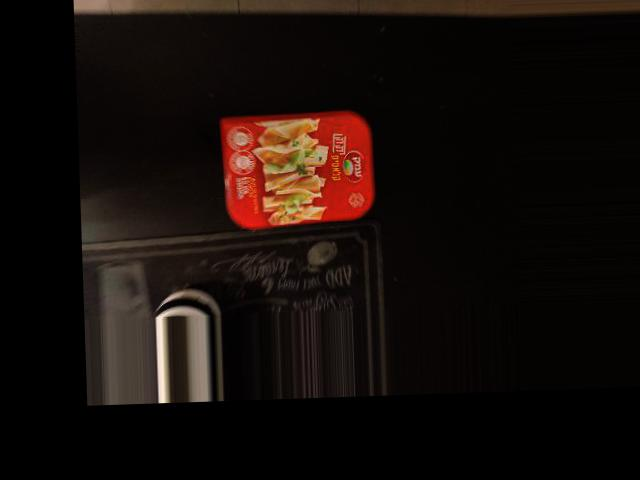cheese: (211, 105, 374, 232)
